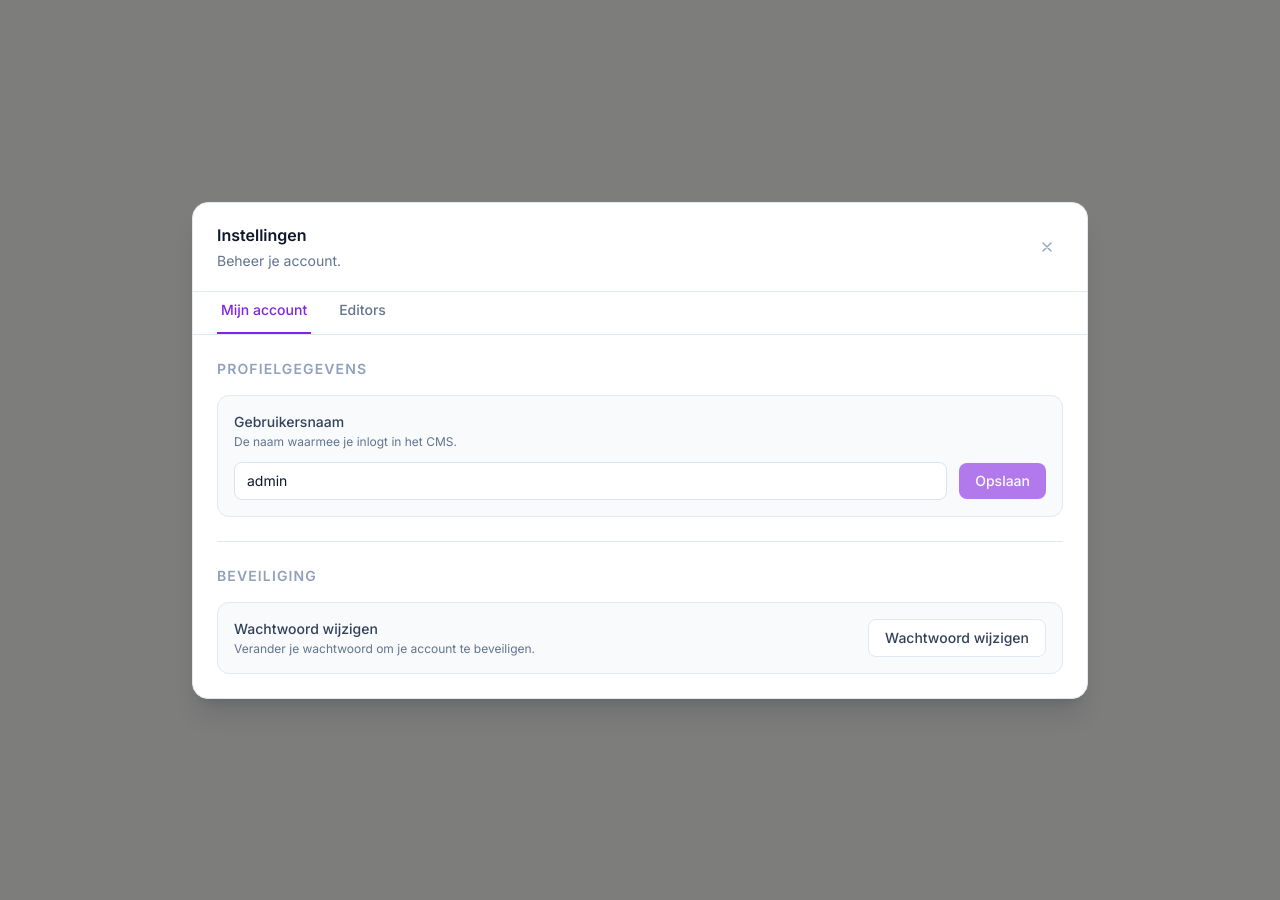
Test case: SettingsModal › shows validation error when new passwords do not match
Click the button "Wachtwoord wijzigen" at (957, 638), box 868,618 -> 1046,656
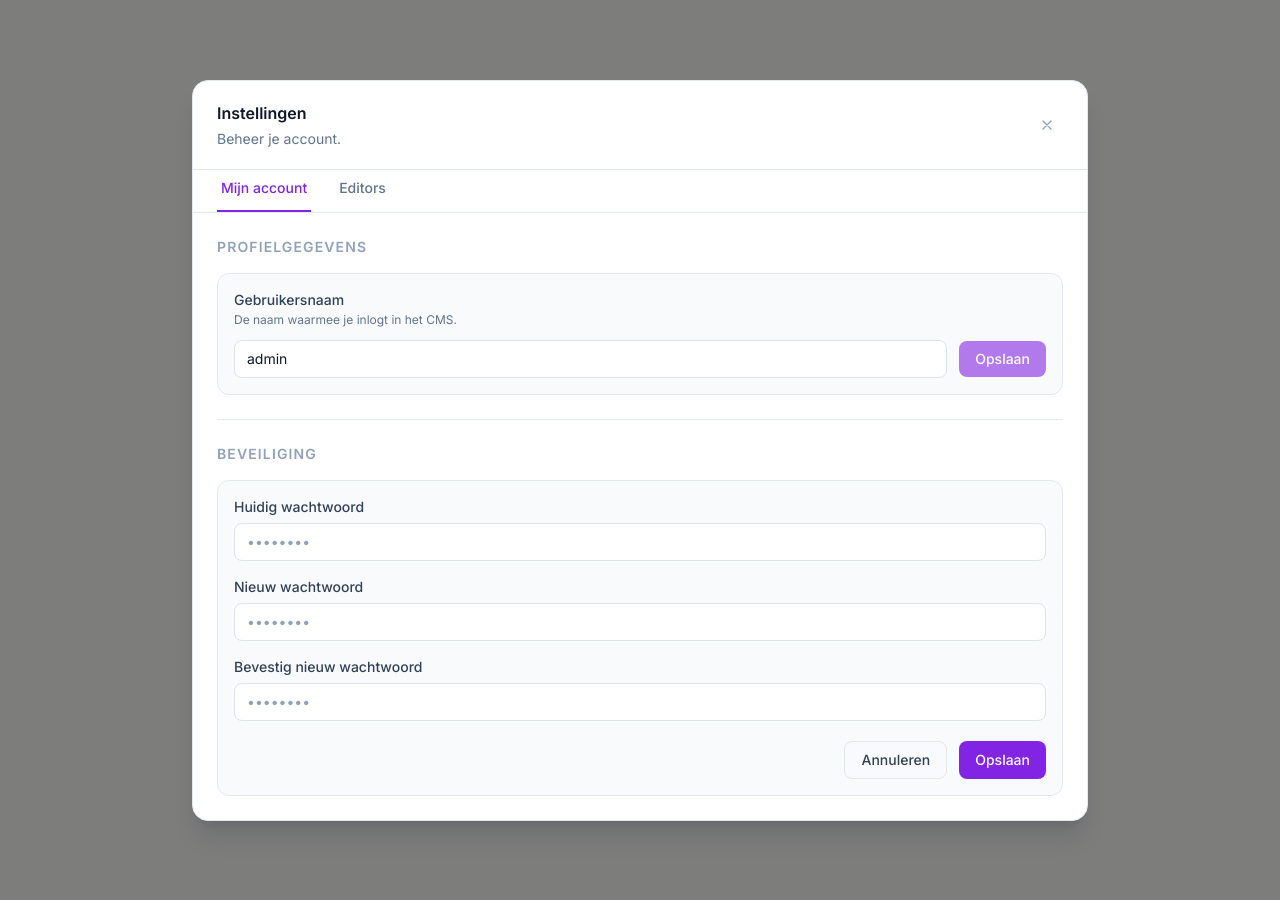
Type "huidig123" into the password field labelled "Huidig wachtwoord" at (640, 542), box 234,522 -> 1046,560
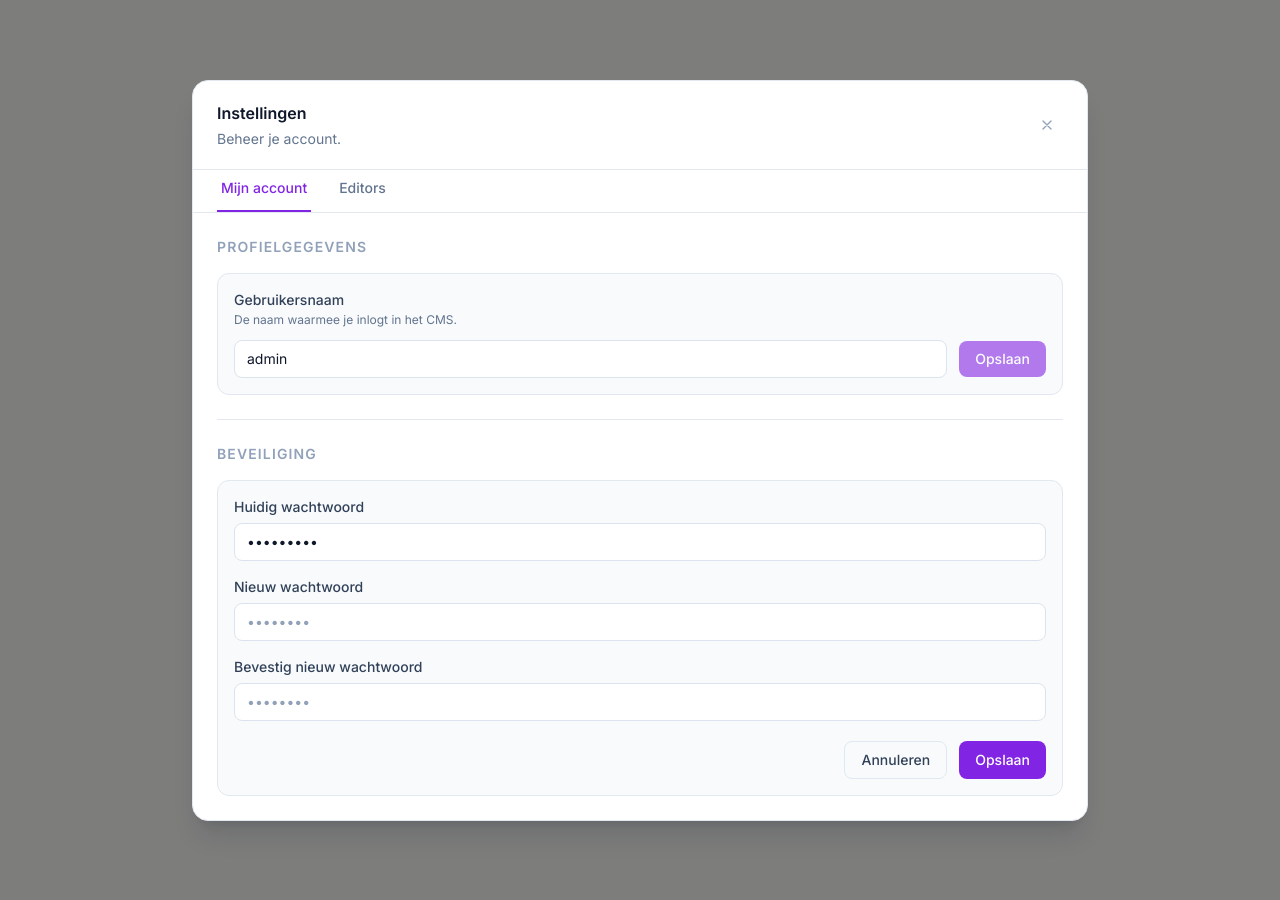
Type "nieuw123" into the password field labelled "Nieuw wachtwoord" at (640, 622), box 234,602 -> 1046,640
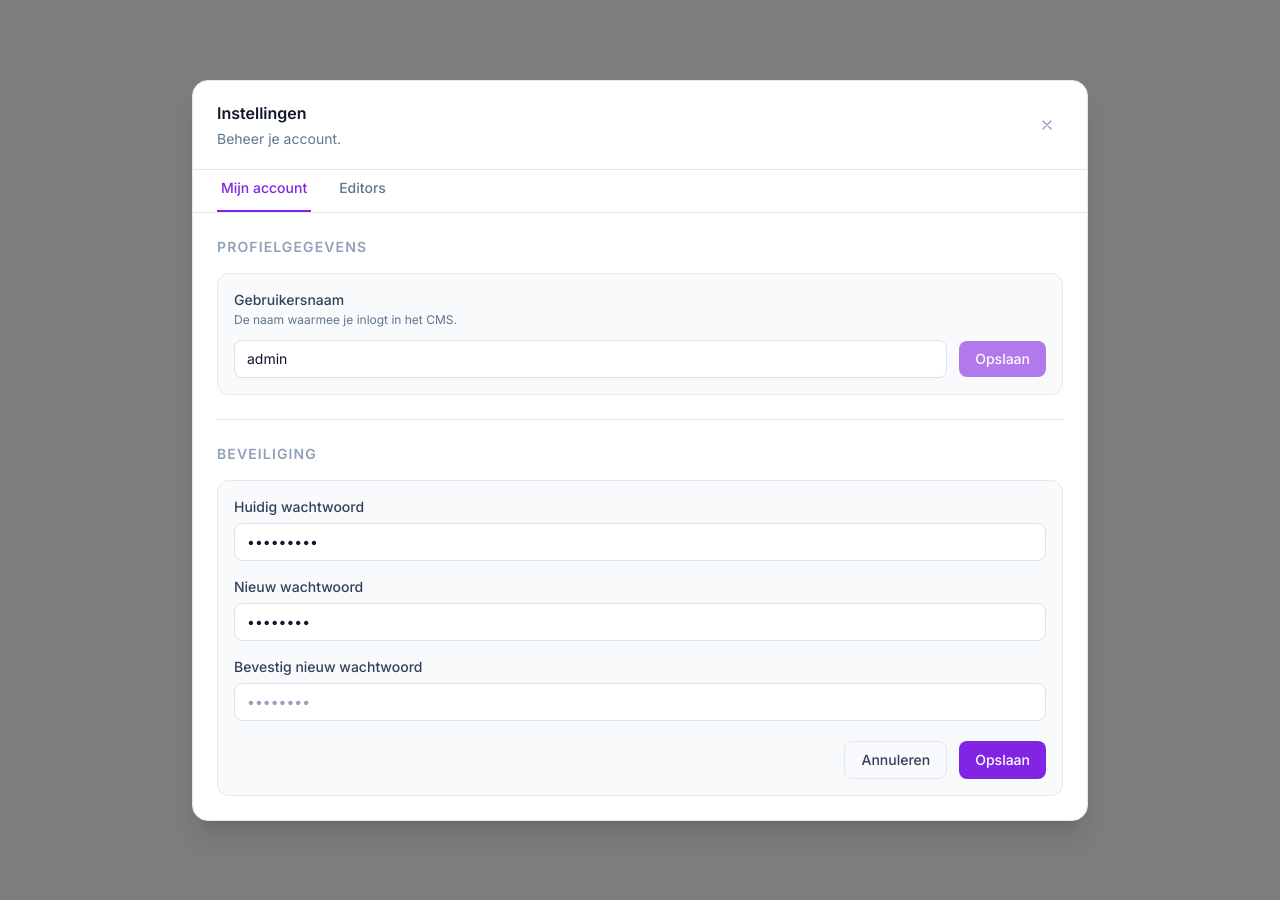
Type "anders456" into the password field labelled "Bevestig nieuw wachtwoord" at (640, 702), box 234,682 -> 1046,720
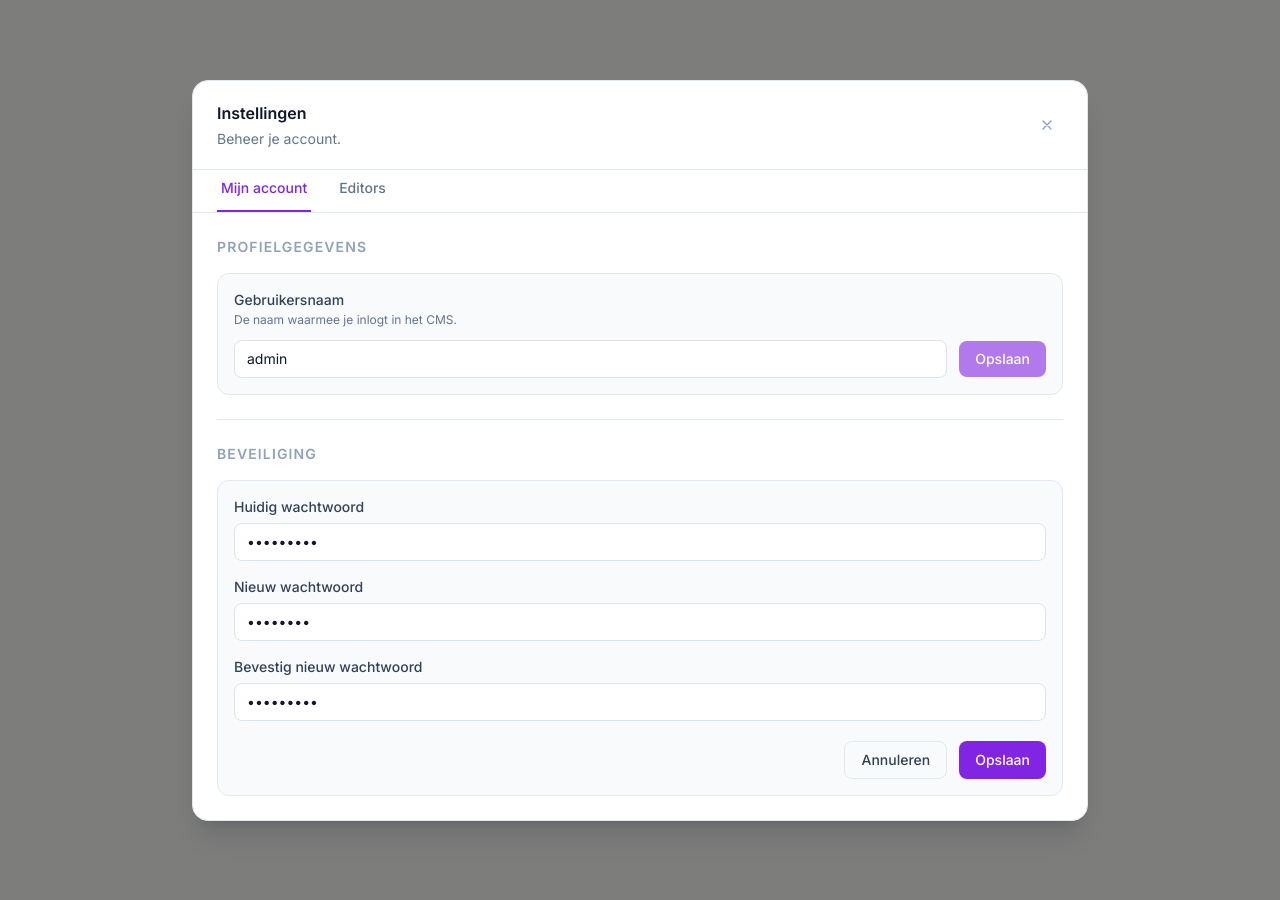
Expected: the 2nd button "Opslaan" is shown
Click the 2nd button "Opslaan" at (1003, 760), box 959,740 -> 1046,778
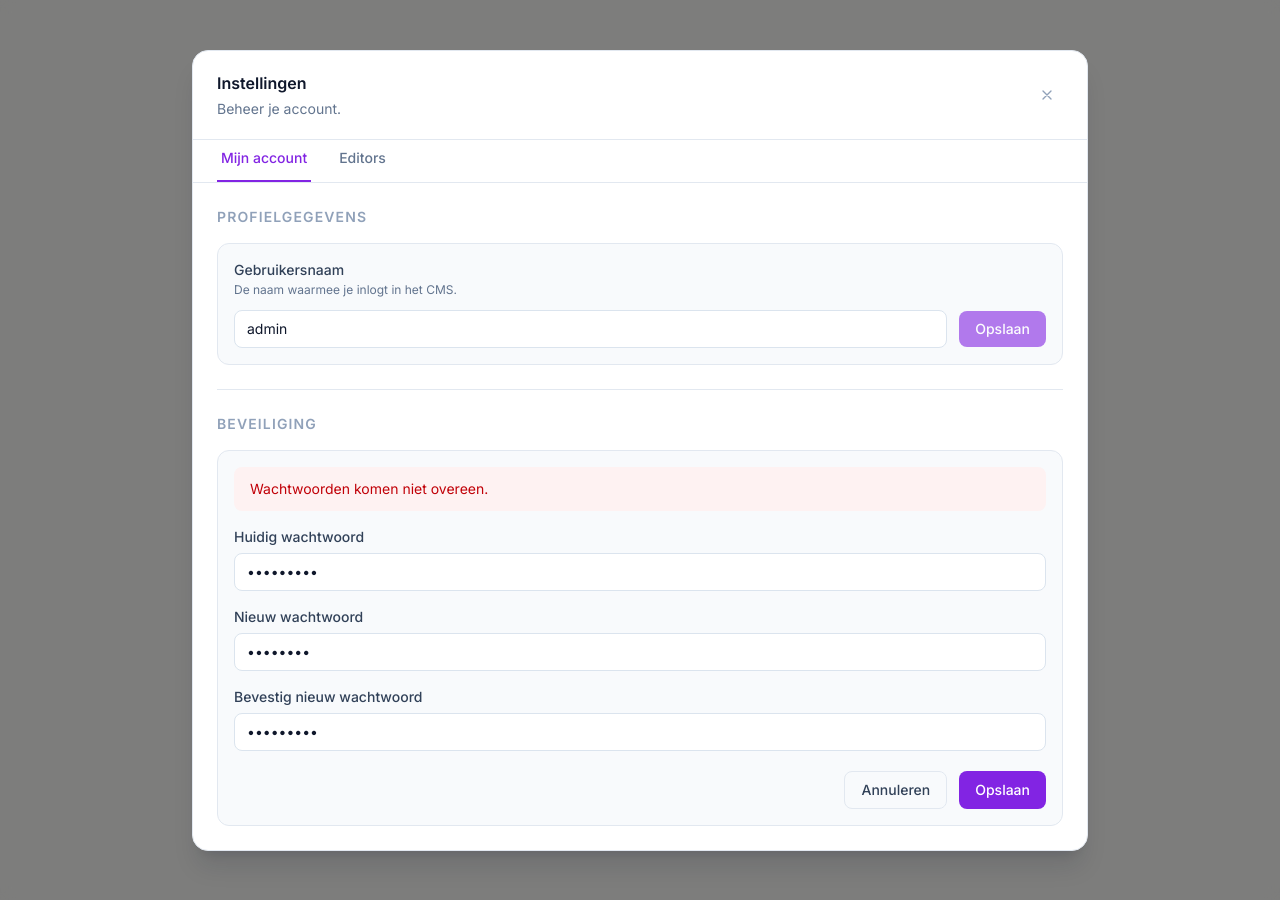
Expected: the text "Wachtwoorden komen niet overeen." is shown, 234,466 -> 1046,510
